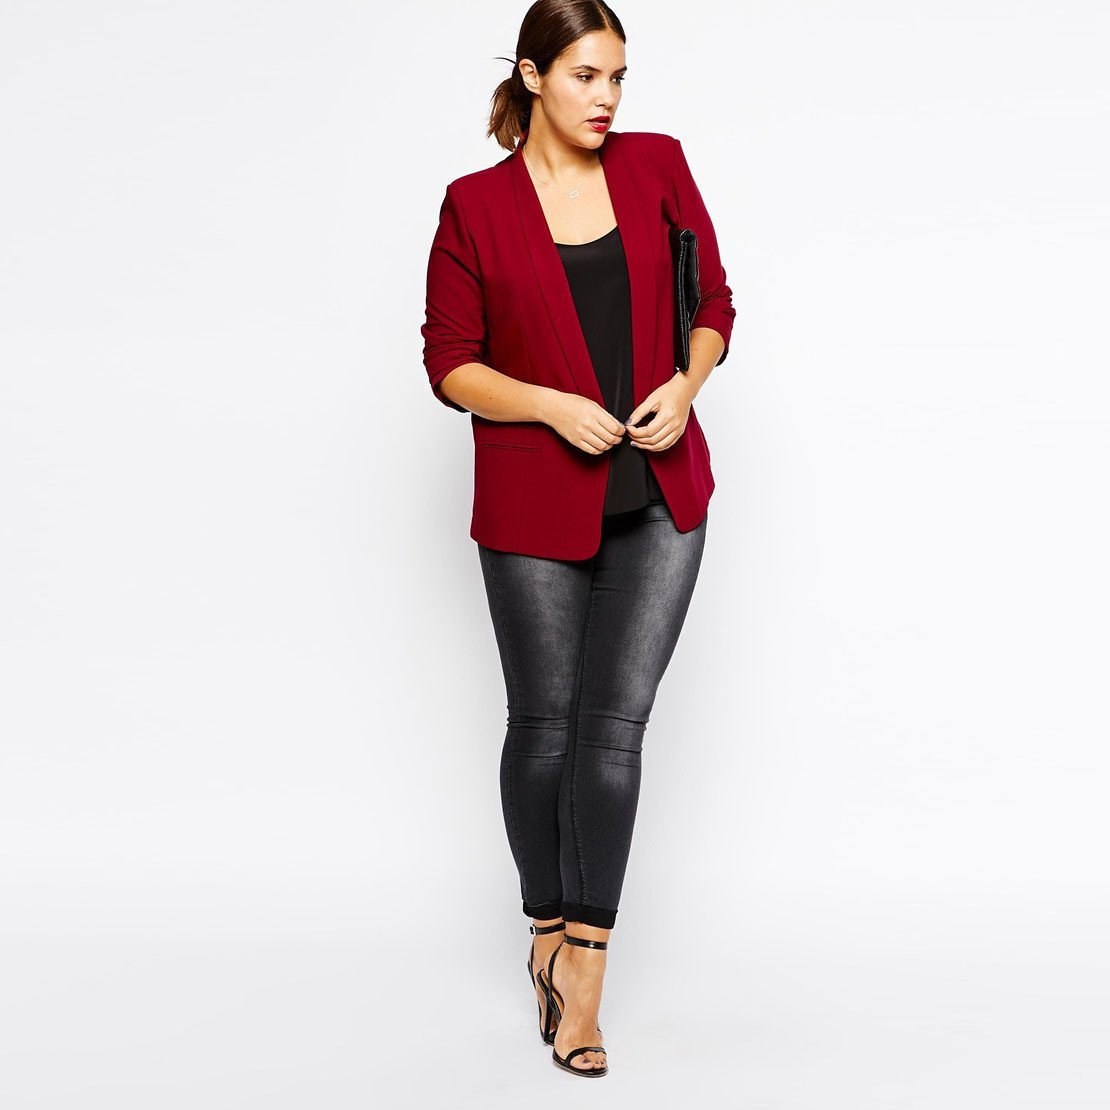F_W_suit jacket: (402, 108, 776, 539)
